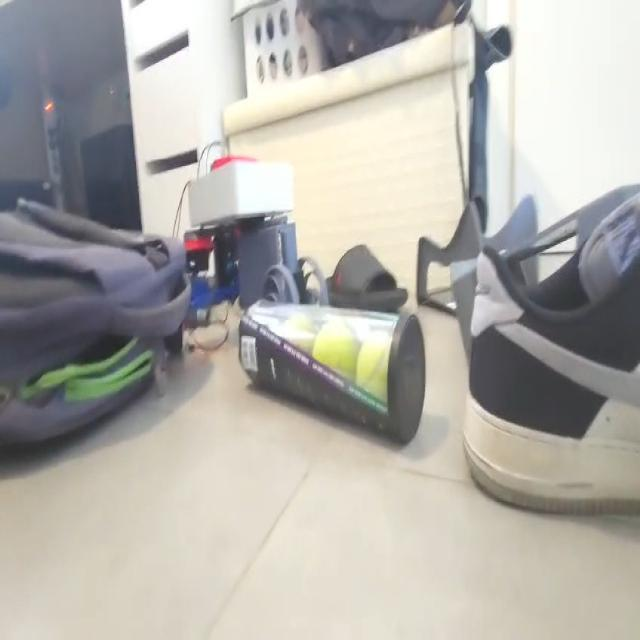Robot: (182, 152, 330, 330)
